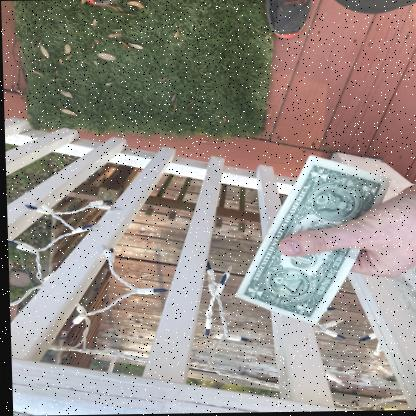one-back: (234, 153, 391, 326)
